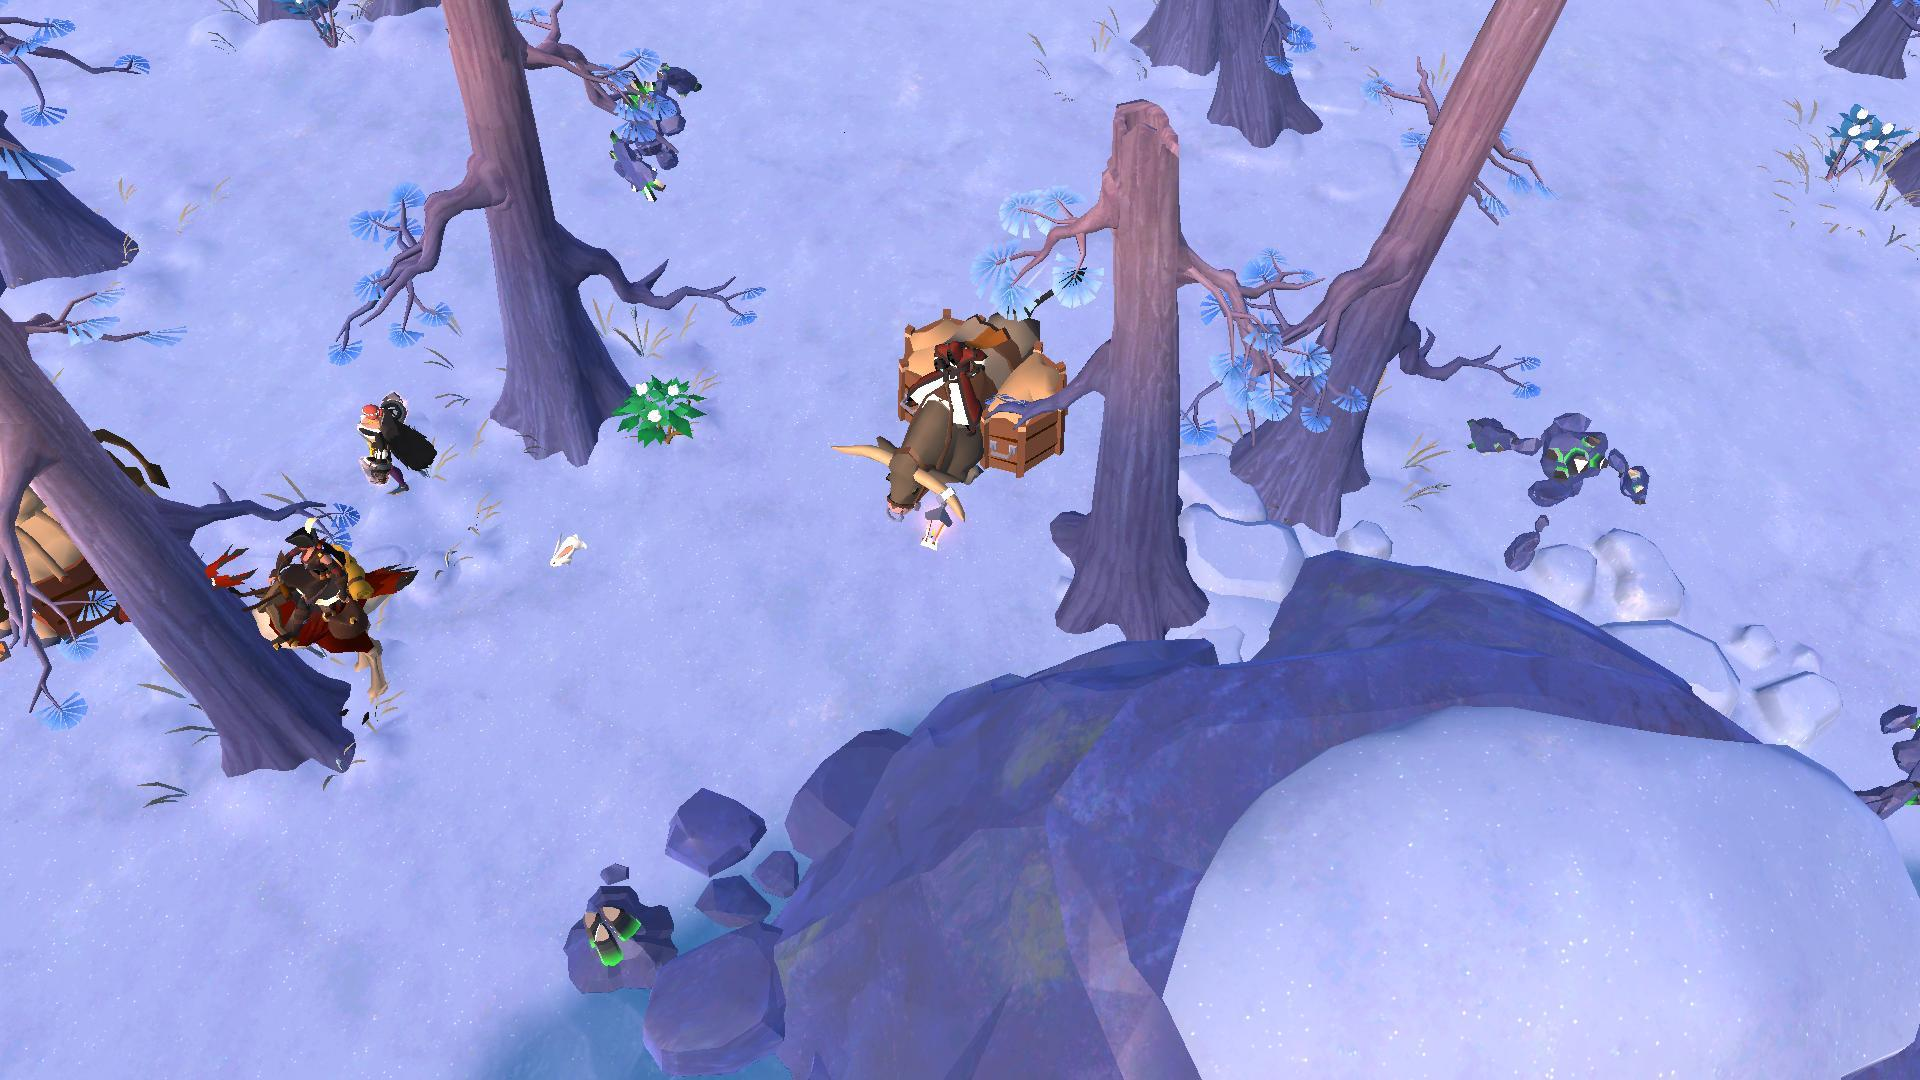fiber_t3: (612, 372, 703, 447)
fiber_t4: (1813, 98, 1904, 171)
ore_t3: (576, 895, 640, 969)
